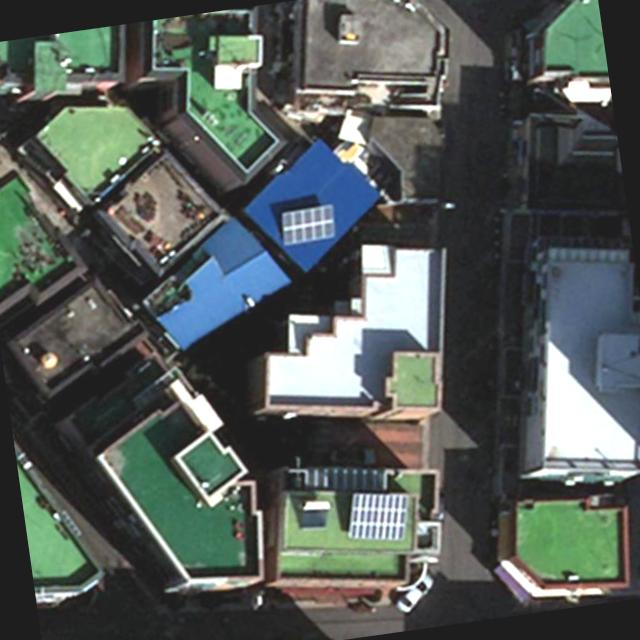solar: (342, 484, 414, 551), (274, 202, 342, 246)
